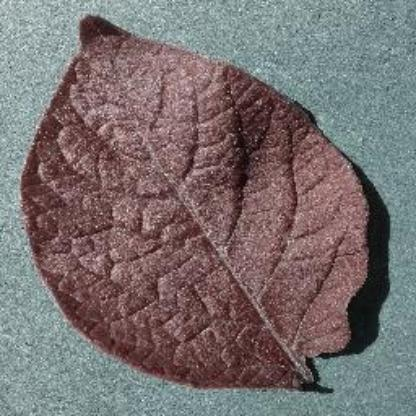Healthy-plant: (23, 23, 388, 400)
